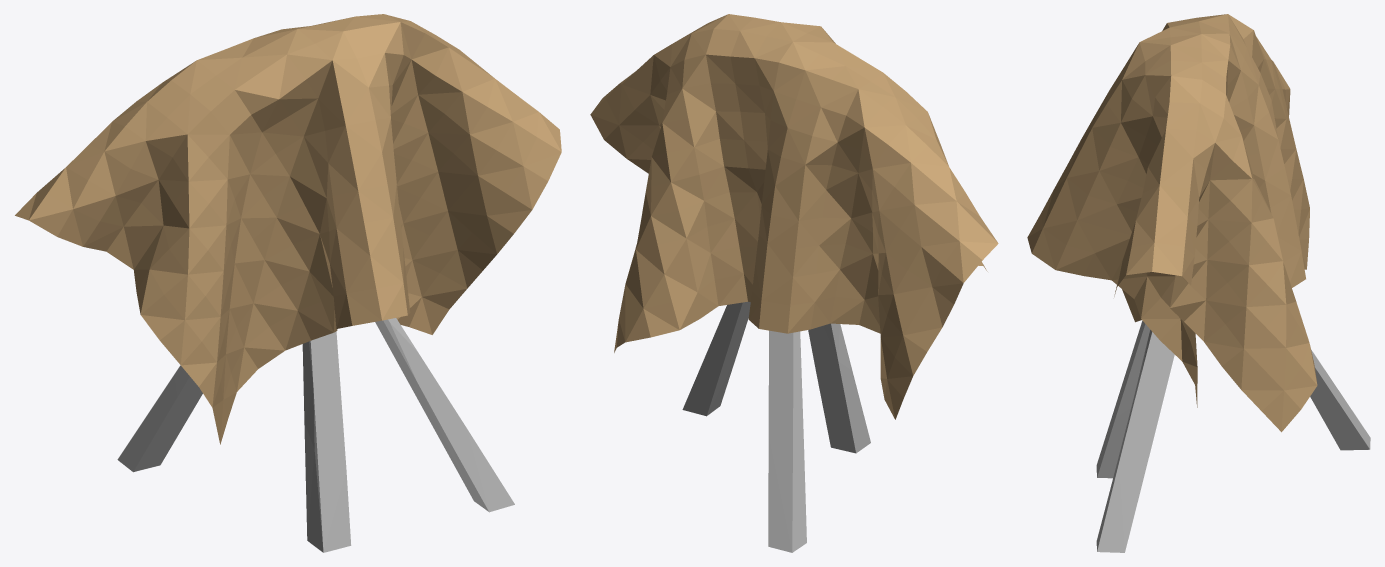
The model's file is level_0.glb.
3 renders of one model, left to right at view 1: azimuth 30°, elevation 25°; view 2: azimuth 150°, elevation 25°; view 3: azimuth 270°, elevation 25°, orthographic. The views are drawn at different scales.
Visible parts, largest first — view 1: world, object.obj; view 2: world, object.obj; view 3: world, object.obj.
Part boxes in pixels (<box>): world: <box>15,14,561,444</box>; object.obj: <box>117,318,514,552</box>; world: <box>590,14,998,419</box>; object.obj: <box>682,301,870,552</box>; world: <box>1027,14,1317,432</box>; object.obj: <box>1096,321,1370,552</box>.
Bounding box in the file's own units: 0.4337 × 0.4097 × 0.2848.
